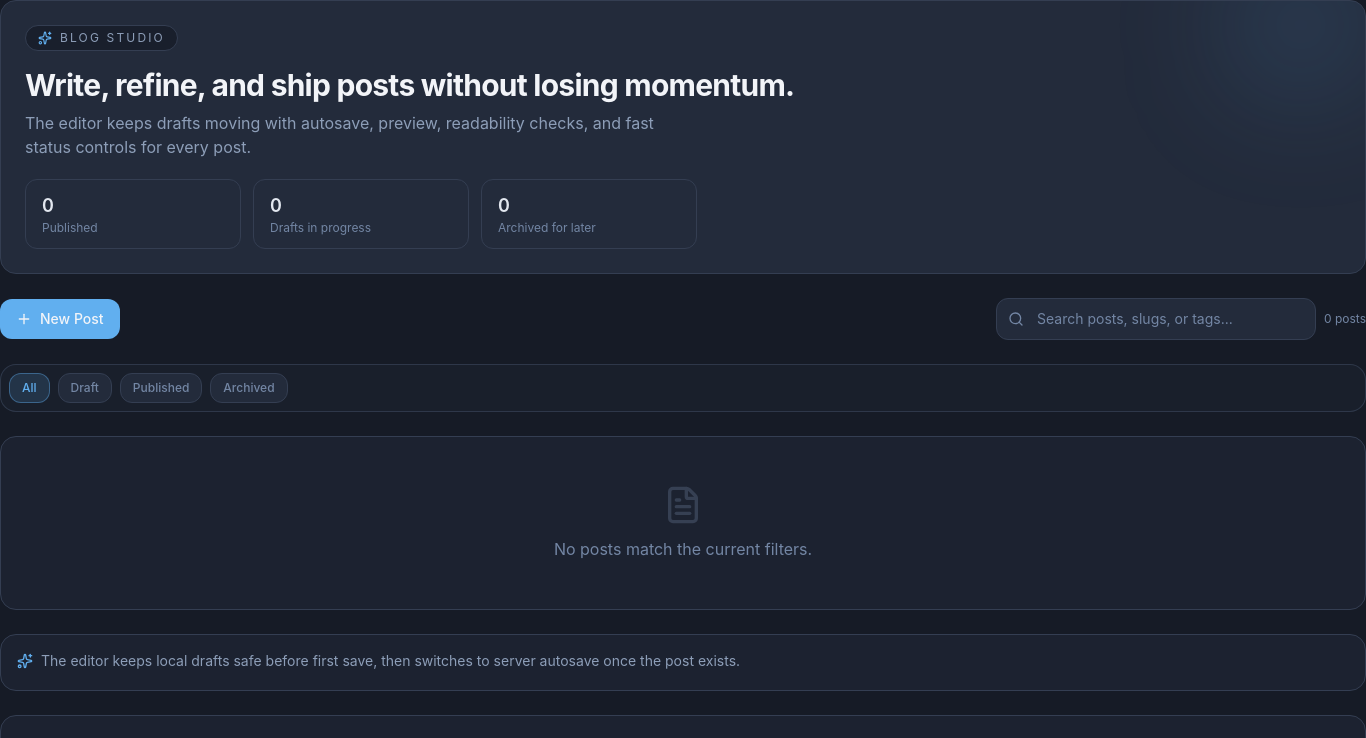
Test case: BlogAdminView › validates empty draft and prevents saving
Click the button "New Post" at (60, 319), box [0,299,120,339]
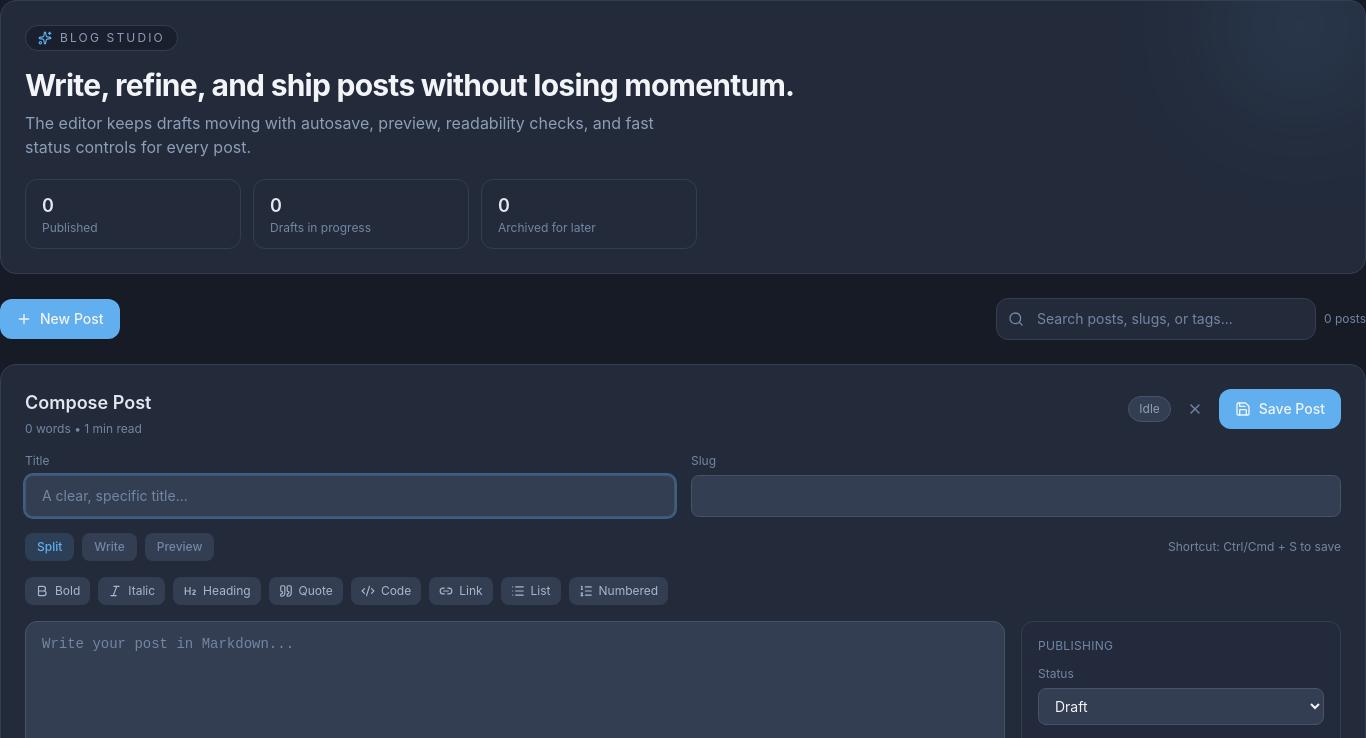
Click the button with aria-label "Publish new post" at (1280, 409), box [1219,389,1341,429]
(page scrolled)
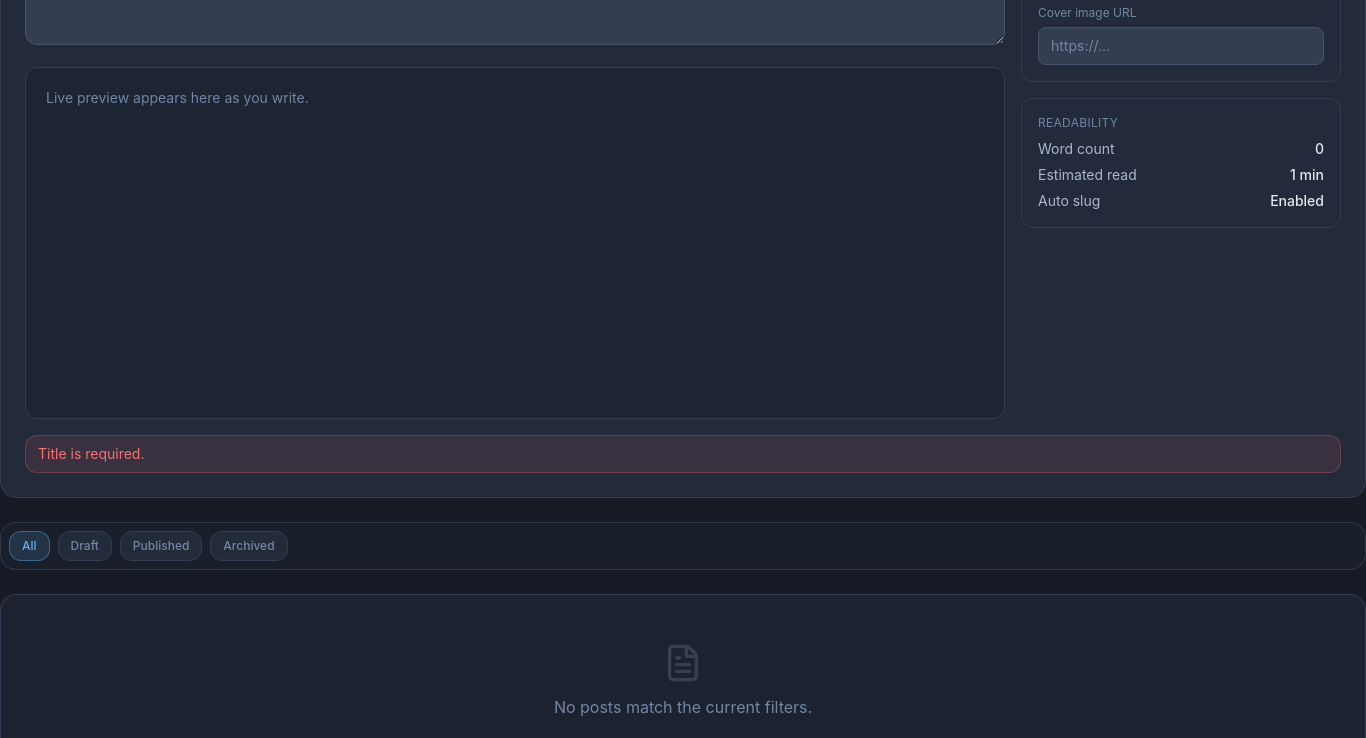
Result: the text "Title is required." is shown at [25,435,1341,473]
